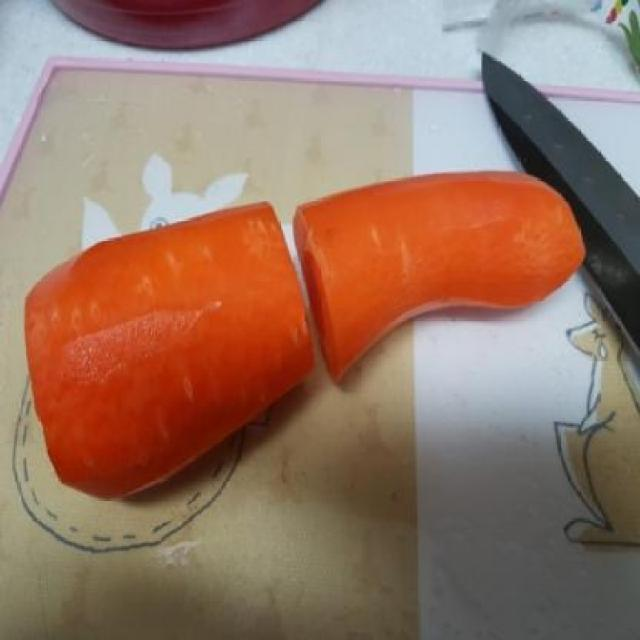carrot: (24, 204, 314, 506), (296, 172, 586, 390)
